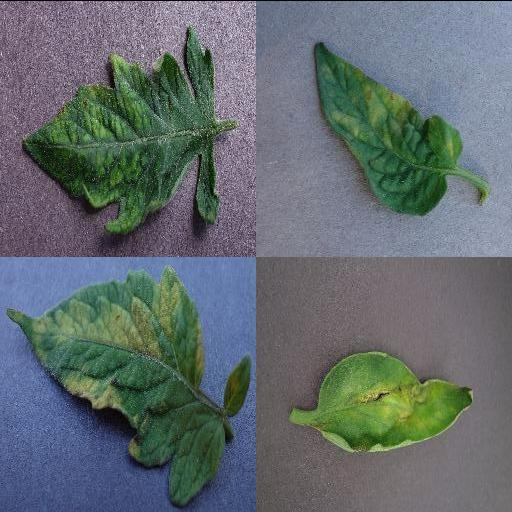Late Blight: (314, 348, 476, 454)
Leaf Mold: (4, 264, 224, 502), (311, 42, 461, 214)
Mosaic Virus: (17, 23, 223, 235)
